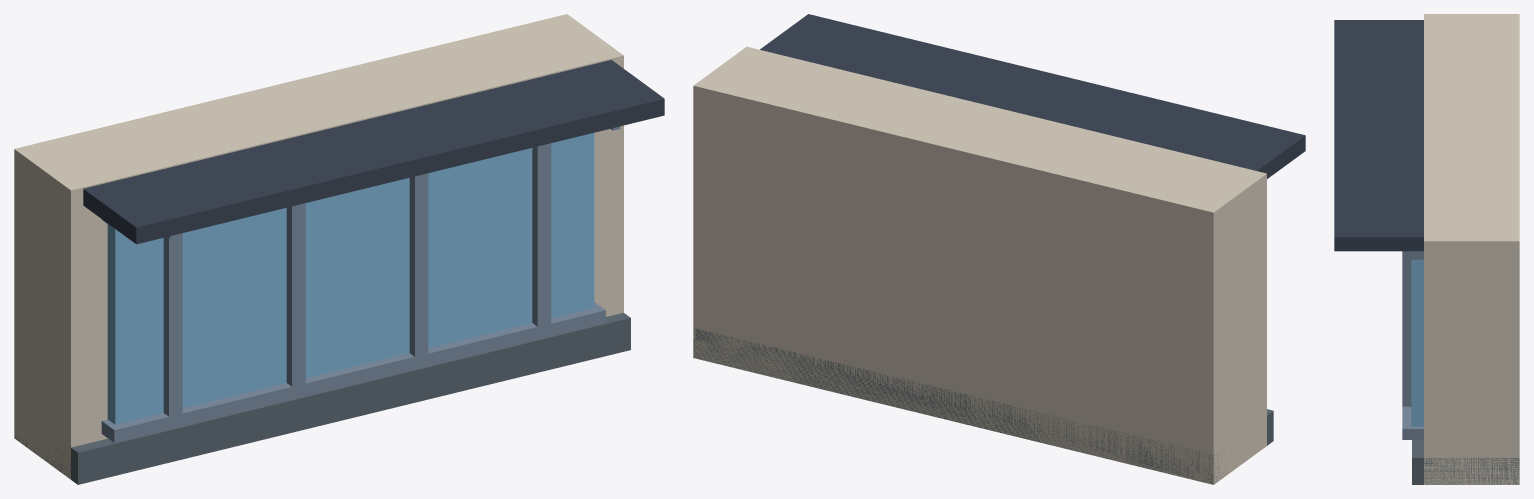
File: cittaNuovaBase.glb
3 renders of one model, left to right at view 1: azimuth 30°, elevation 25°; view 2: azimuth 150°, elevation 25°; view 3: azimuth 270°, elevation 25°, orthographic. The views are drawn at different scales.
Visible parts, largest first — view 1: cittaNuovaBase_glass, cittaNuovaBase_concrete, cittaNuovaBase_steelDark, cittaNuovaBase_steel, cittaNuovaBase_tarmac; view 2: cittaNuovaBase_concrete, cittaNuovaBase_steelDark, cittaNuovaBase_tarmac; view 3: cittaNuovaBase_concrete, cittaNuovaBase_steelDark, cittaNuovaBase_tarmac, cittaNuovaBase_glass, cittaNuovaBase_steel.
Boxes of the visible parts, x1,y1,x2,y2 form: cittaNuovaBase_glass: [107, 133, 594, 424]; cittaNuovaBase_concrete: [14, 14, 623, 479]; cittaNuovaBase_steelDark: [83, 60, 664, 244]; cittaNuovaBase_steel: [101, 126, 620, 442]; cittaNuovaBase_tarmac: [14, 313, 630, 484]; cittaNuovaBase_concrete: [693, 46, 1266, 484]; cittaNuovaBase_steelDark: [760, 14, 1305, 178]; cittaNuovaBase_tarmac: [693, 328, 1273, 484]; cittaNuovaBase_concrete: [1424, 14, 1519, 484]; cittaNuovaBase_steelDark: [1334, 20, 1423, 251]; cittaNuovaBase_tarmac: [1412, 440, 1519, 484]; cittaNuovaBase_glass: [1411, 259, 1423, 426]; cittaNuovaBase_steel: [1402, 251, 1423, 439].
Bounding box in the file's own units: 9 × 4.5 × 3.1.
